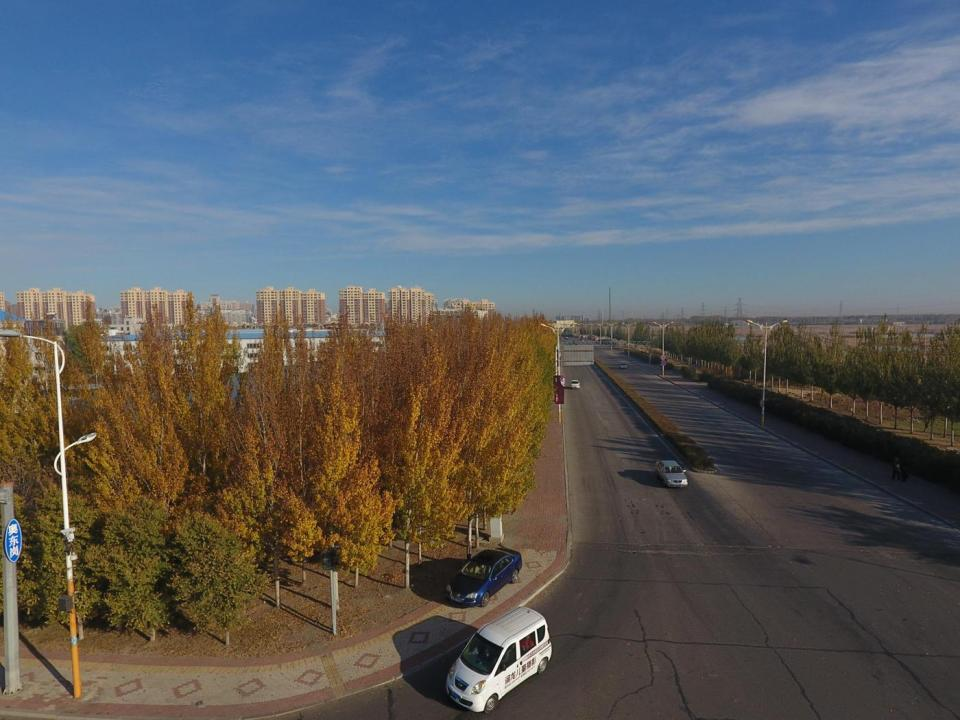car: (448, 608, 554, 713), (447, 546, 523, 607), (654, 459, 689, 489), (570, 379, 580, 390), (618, 362, 627, 369), (566, 337, 569, 340)
